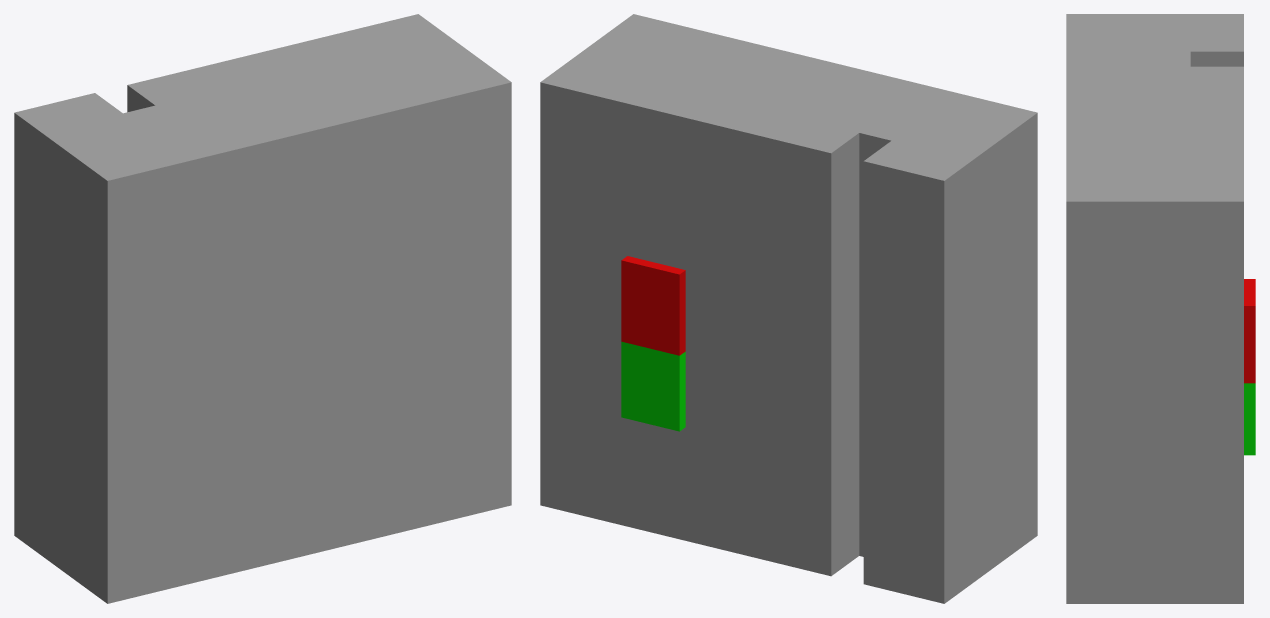
File: lector.fbx
3 renders of one model, left to right at view 1: azimuth 30°, elevation 25°; view 2: azimuth 150°, elevation 25°; view 3: azimuth 270°, elevation 25°, orthographic. The views are drawn at different scales.
Parts seen in each view (by area): view 1: Lector; view 2: Lector; view 3: Lector.
Boxes of the visible parts, <box> form: Lector: <box>14,14,511,603</box>; Lector: <box>540,14,1037,603</box>; Lector: <box>1066,14,1255,603</box>.
Size of the model in its own units: 1 by 1 by 0.4261.
